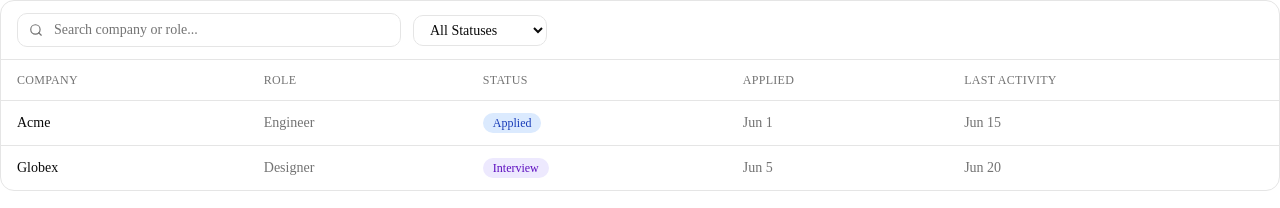
Scenario: filters rows by search query
Step 1. Type "Globex" into the field with placeholder "Search company or role..." → (209, 30), box [17,13,401,47]
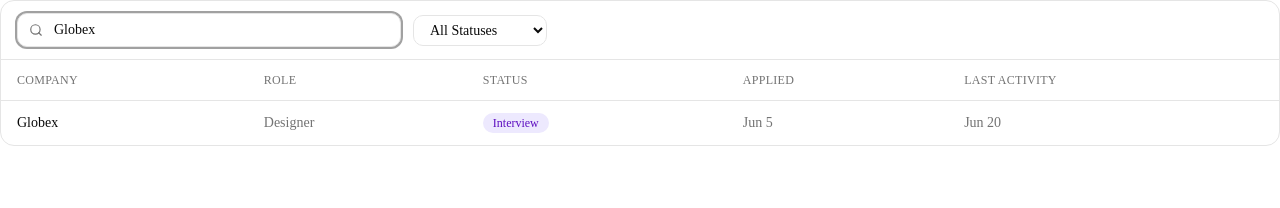
Expected: the text "Globex" is shown, [1,100,248,145]
Result: the text "Acme" is gone
